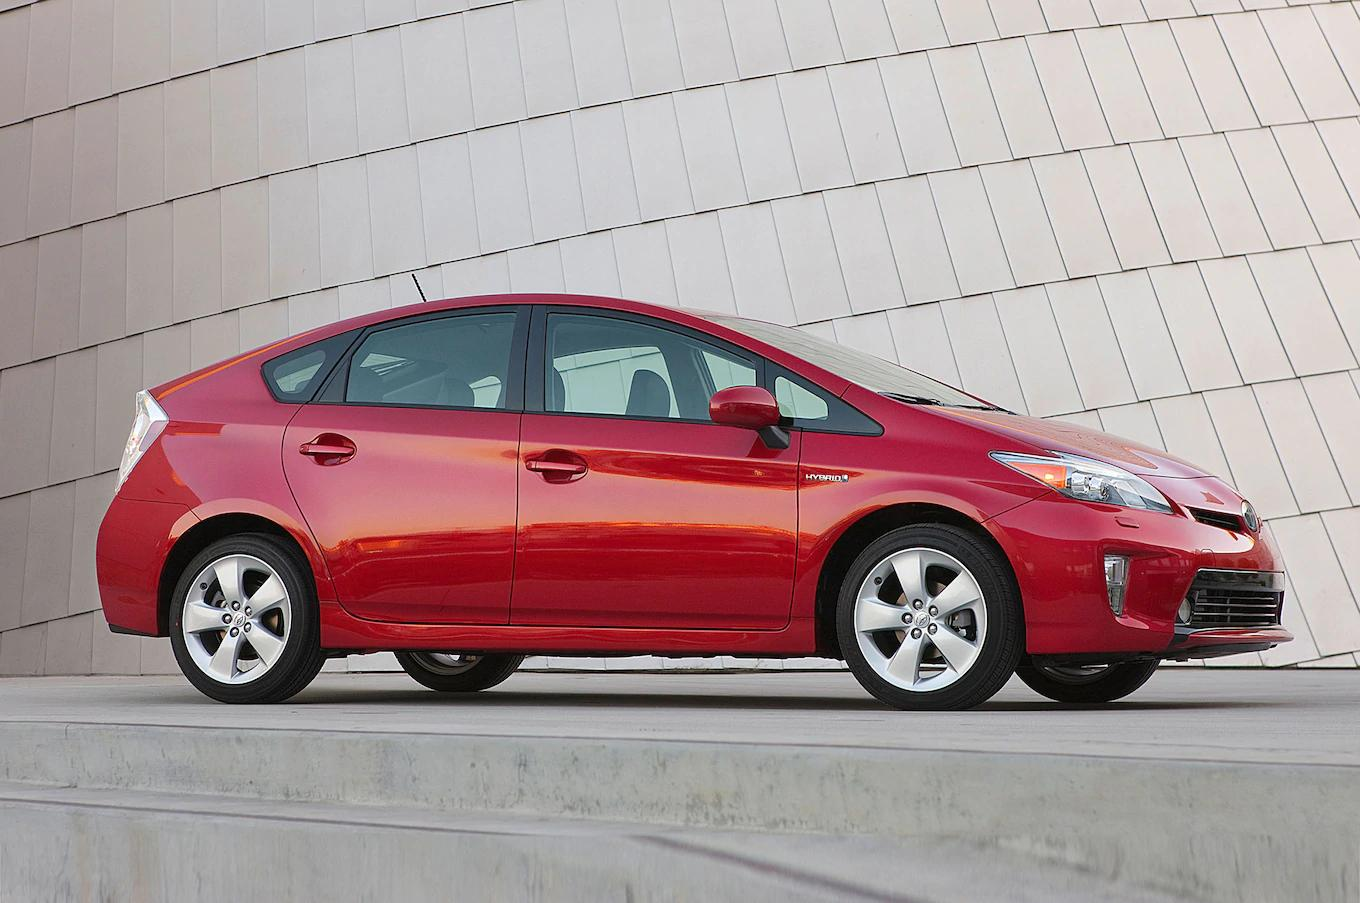Toyota Prius: (87, 289, 1300, 717)
